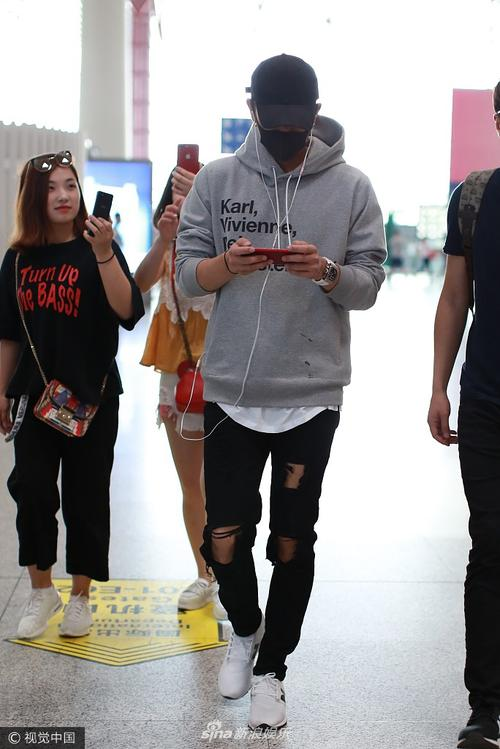reading: (227, 233, 323, 278)
